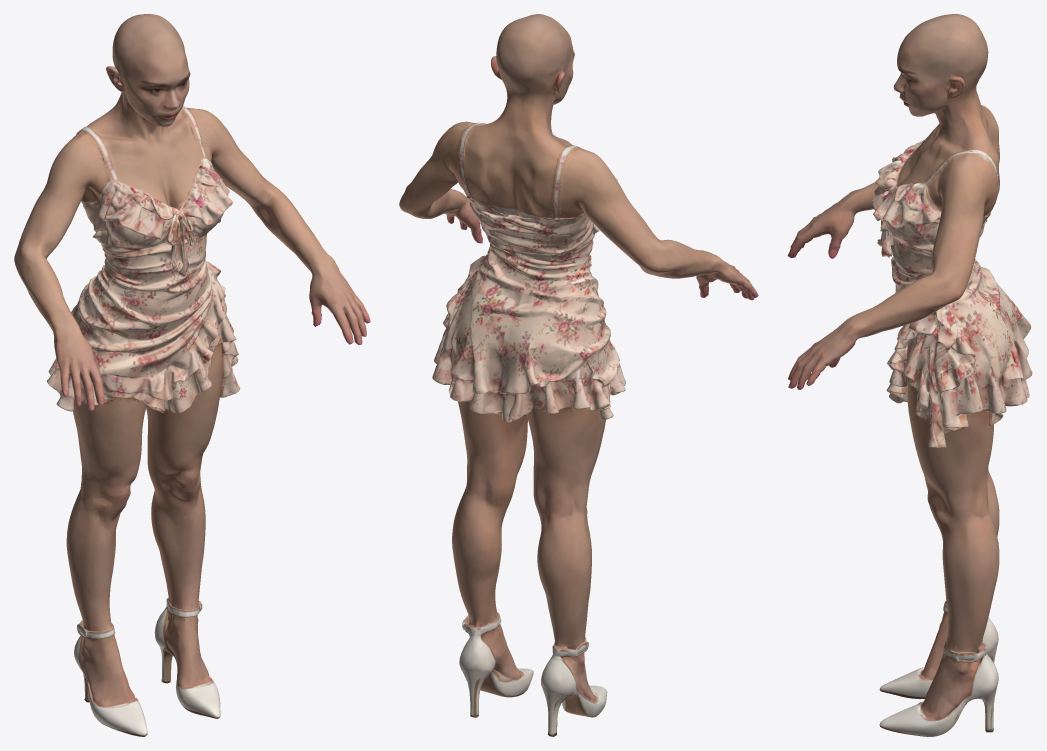
The model's file is dress.glb.
3 views of the same model, side by side, from view 1: azimuth 30°, elevation 25°; view 2: azimuth 150°, elevation 25°; view 3: azimuth 270°, elevation 25° (orthographic).
Parts seen in each view (by area): view 1: tripo_node_4c8c6990-0b3c-4f93-bca5-f0912a9c6e3e; view 2: tripo_node_4c8c6990-0b3c-4f93-bca5-f0912a9c6e3e; view 3: tripo_node_4c8c6990-0b3c-4f93-bca5-f0912a9c6e3e.
Boxes of the visible parts, x1,y1,x2,y2 form: tripo_node_4c8c6990-0b3c-4f93-bca5-f0912a9c6e3e: (14,14,370,736); tripo_node_4c8c6990-0b3c-4f93-bca5-f0912a9c6e3e: (399,14,758,736); tripo_node_4c8c6990-0b3c-4f93-bca5-f0912a9c6e3e: (787,14,1032,736).
Bounding box in the file's own units: 0.4574 × 0.9808 × 0.3129.
Materials: 1 (1 with a texture image).
